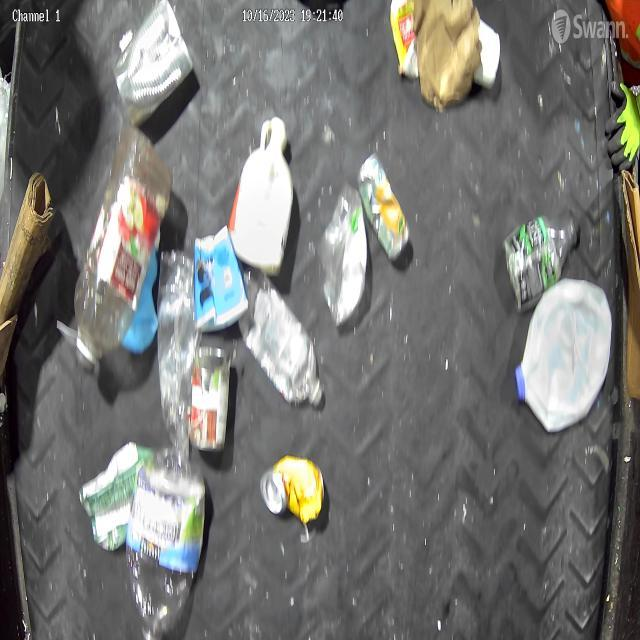can: (112, 0, 194, 131), (356, 151, 411, 264), (188, 344, 232, 456), (259, 454, 325, 526)
milk_jug: (514, 277, 613, 436), (227, 115, 294, 278)
plastic_bottle: (72, 121, 175, 378), (125, 446, 206, 640), (238, 264, 326, 410)
